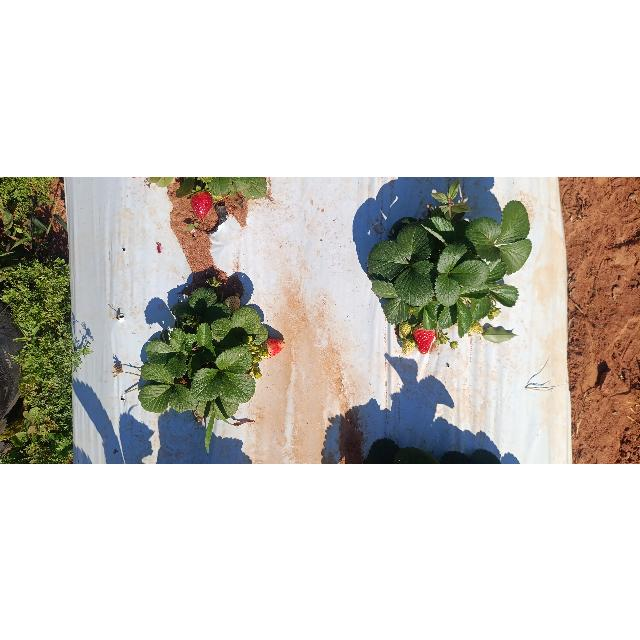maduro: (412, 322, 436, 354), (189, 190, 213, 218)
no-maduro: (222, 294, 240, 312), (398, 322, 412, 338), (402, 338, 416, 354), (469, 319, 483, 333)
semi-maduro: (258, 337, 286, 359)
